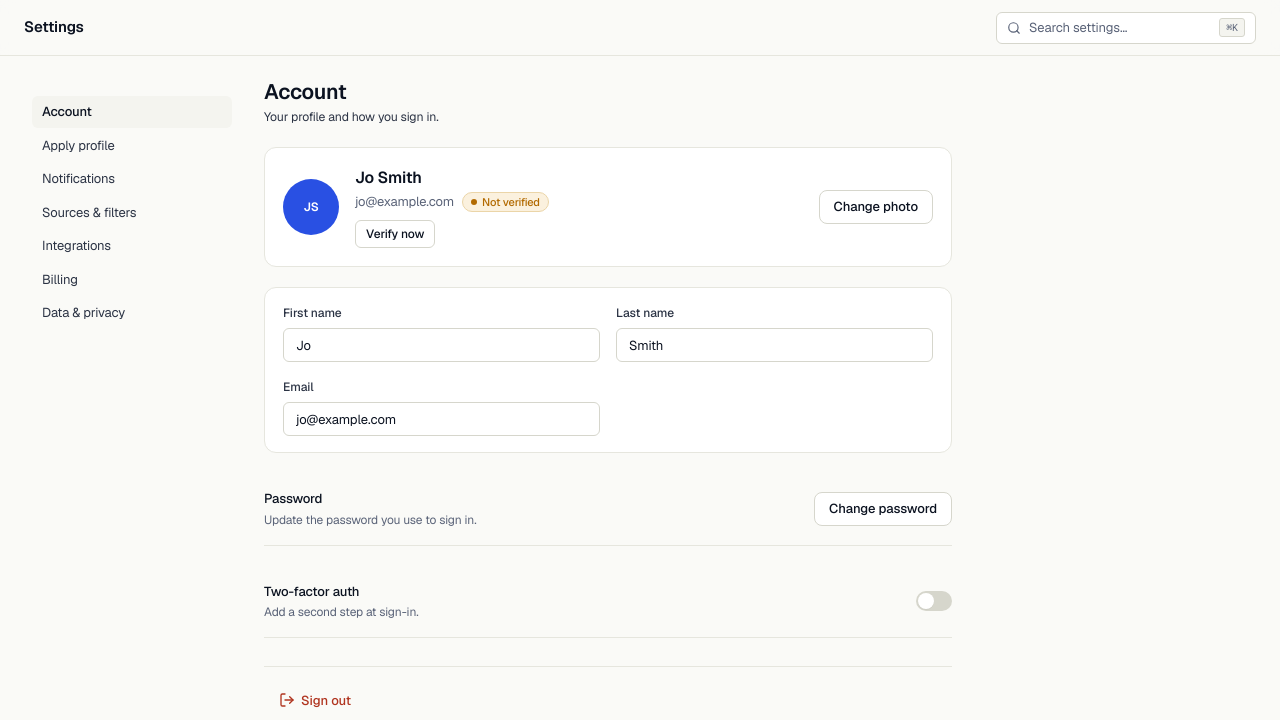
TC-155: PUT failure on interviewReminderEmail toggle reverts and shows error › reverts the toggle and shows the toggle error indicator on a 500 PUT failure
Click the link "Notifications".
click(78, 178)  # box [42,170,115,187]
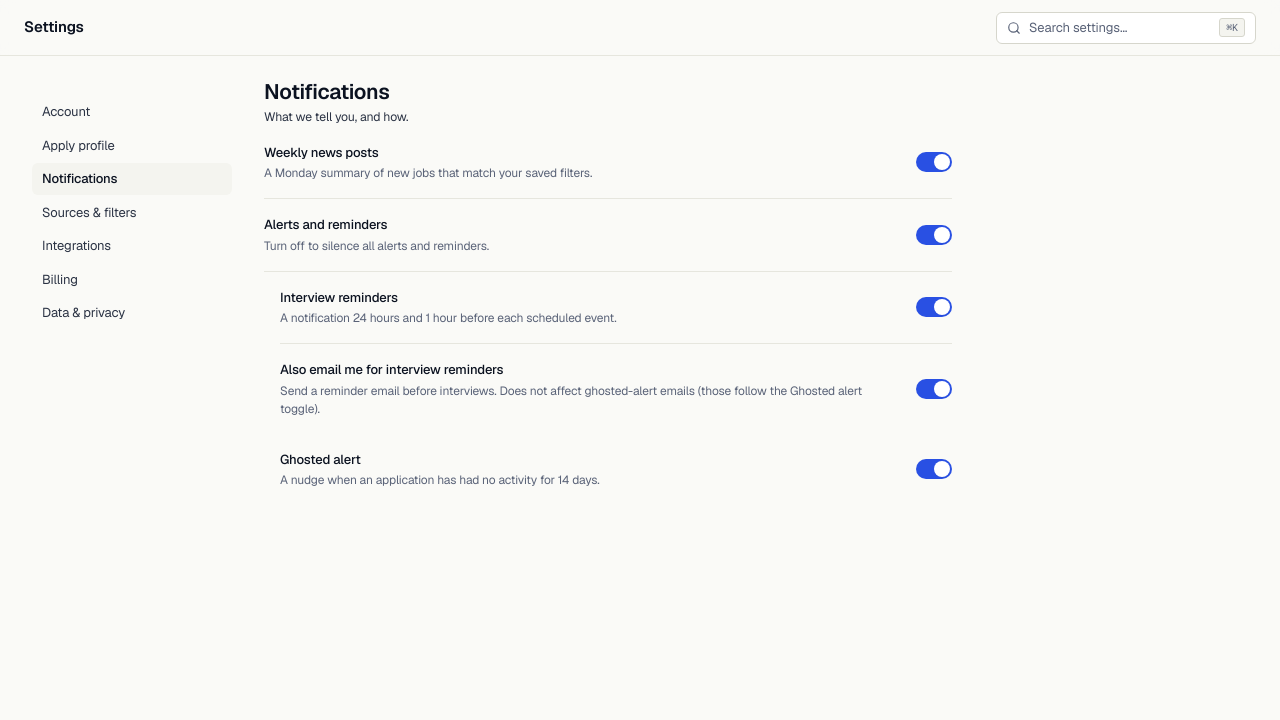
Click the switch with test id "toggle-interviewReminderEmail".
click(934, 389)  # box [916,379,952,399]
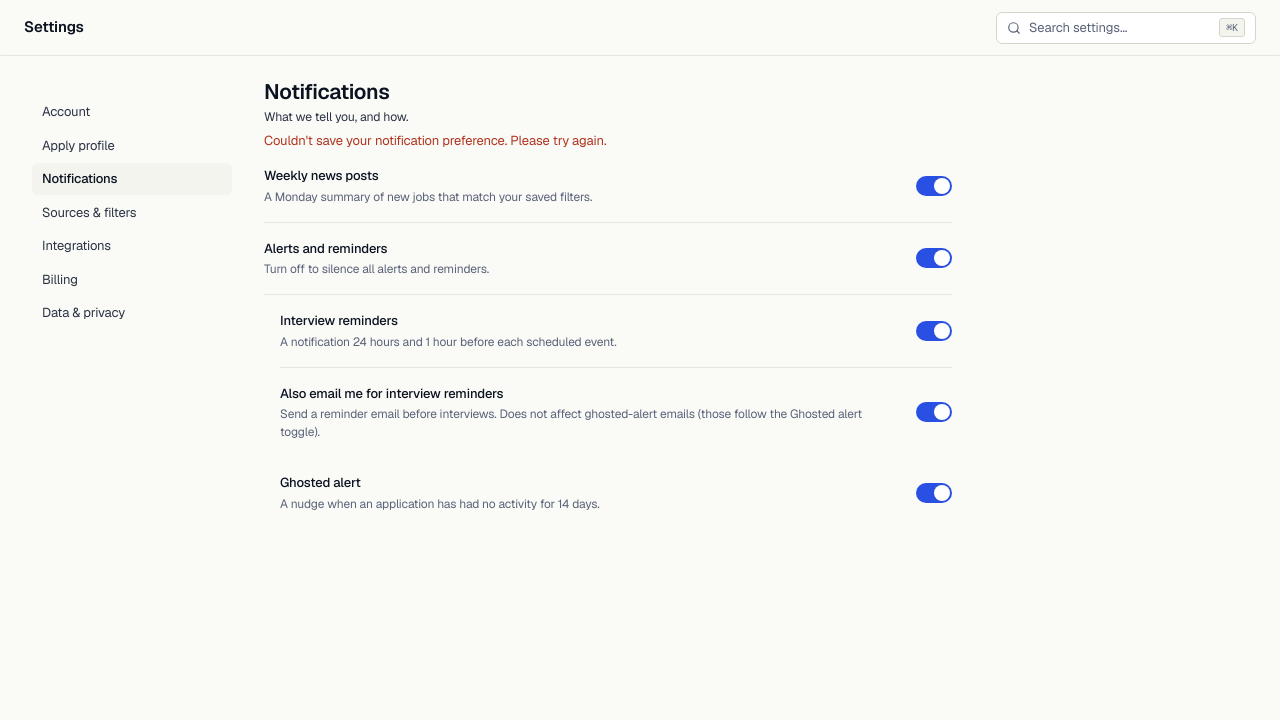
Expected: the message "Couldn't save your notification preference. Please try again." is shown, [264,132,606,148]
